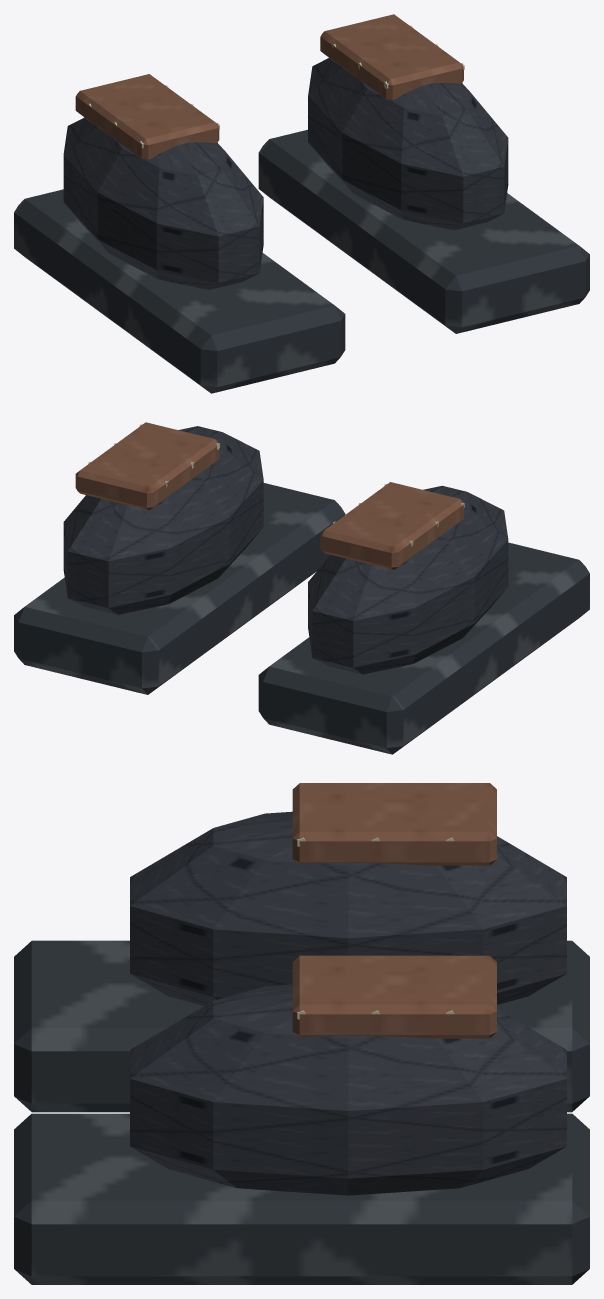
Rendered from MD_88_Shoes.fbx.
The picture shows the model from 3 angles, top to bottom: view 1: azimuth 30°, elevation 25°; view 2: azimuth 150°, elevation 25°; view 3: azimuth 270°, elevation 25°; orthographic projection. The views are drawn at different scales.
Parts seen in each view (by area): view 1: MD_88_Shoes_shoe_sole, MD_88_Shoes_shoe_sole.001, MD_88_Shoes_shoe_upper, MD_88_Shoes_shoe_upper.001, MD_88_Shoes_shoe_tongue, MD_88_Shoes_shoe_tongue.001; view 2: MD_88_Shoes_shoe_sole, MD_88_Shoes_shoe_sole.001, MD_88_Shoes_shoe_upper.001, MD_88_Shoes_shoe_upper, MD_88_Shoes_shoe_tongue.001, MD_88_Shoes_shoe_tongue; view 3: MD_88_Shoes_shoe_upper.001, MD_88_Shoes_shoe_sole.001, MD_88_Shoes_shoe_upper, MD_88_Shoes_shoe_sole, MD_88_Shoes_shoe_tongue.001, MD_88_Shoes_shoe_tongue.
Boxes of the visible parts, <box> form: MD_88_Shoes_shoe_sole: <box>14,189,345,393</box>; MD_88_Shoes_shoe_sole.001: <box>258,129,589,333</box>; MD_88_Shoes_shoe_upper: <box>63,117,263,289</box>; MD_88_Shoes_shoe_upper.001: <box>308,58,508,230</box>; MD_88_Shoes_shoe_tongue: <box>75,74,219,160</box>; MD_88_Shoes_shoe_tongue.001: <box>320,14,463,100</box>; MD_88_Shoes_shoe_sole: <box>258,542,589,754</box>; MD_88_Shoes_shoe_sole.001: <box>14,483,345,694</box>; MD_88_Shoes_shoe_upper.001: <box>63,426,263,614</box>; MD_88_Shoes_shoe_upper: <box>308,485,508,674</box>; MD_88_Shoes_shoe_tongue.001: <box>75,422,219,510</box>; MD_88_Shoes_shoe_tongue: <box>320,482,463,569</box>; MD_88_Shoes_shoe_upper.001: <box>130,984,566,1195</box>; MD_88_Shoes_shoe_sole.001: <box>14,1113,589,1284</box>; MD_88_Shoes_shoe_upper: <box>130,811,566,1005</box>; MD_88_Shoes_shoe_sole: <box>14,940,589,1112</box>; MD_88_Shoes_shoe_tongue.001: <box>292,955,496,1038</box>; MD_88_Shoes_shoe_tongue: <box>292,783,496,865</box>.
Size of the model in its own units: 0.35 by 0.155 by 0.31.
4 materials, 4 textured.
